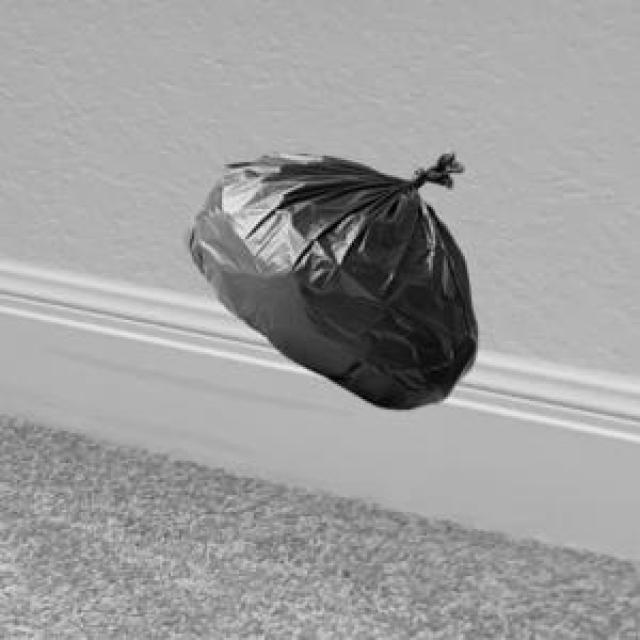miscellaneous trash: (179, 149, 474, 405)
